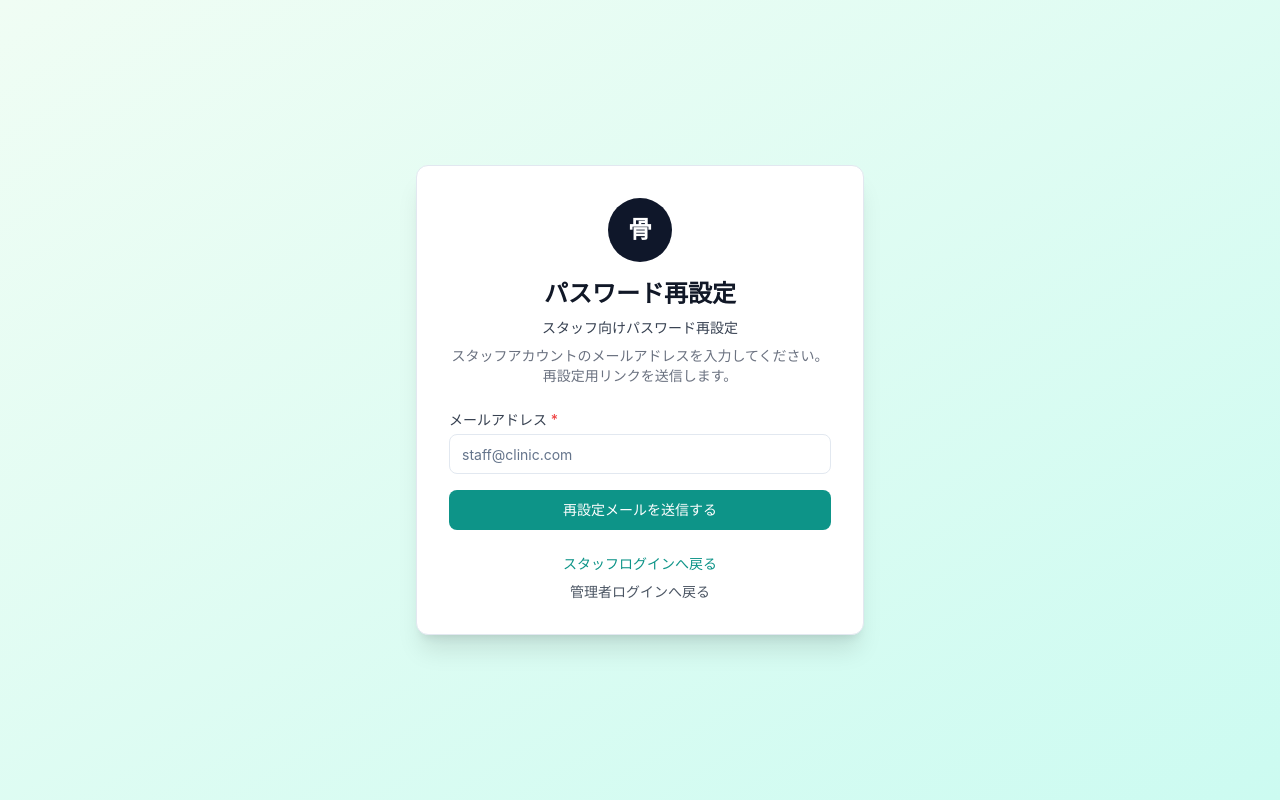
Scenario: /forgot-password page › 不正なメールアドレスではクライアント側バリデーションエラーを表示する
In the field labelled "メールアドレス *": (640, 454) [449,434,831,474], type "invalid-email"
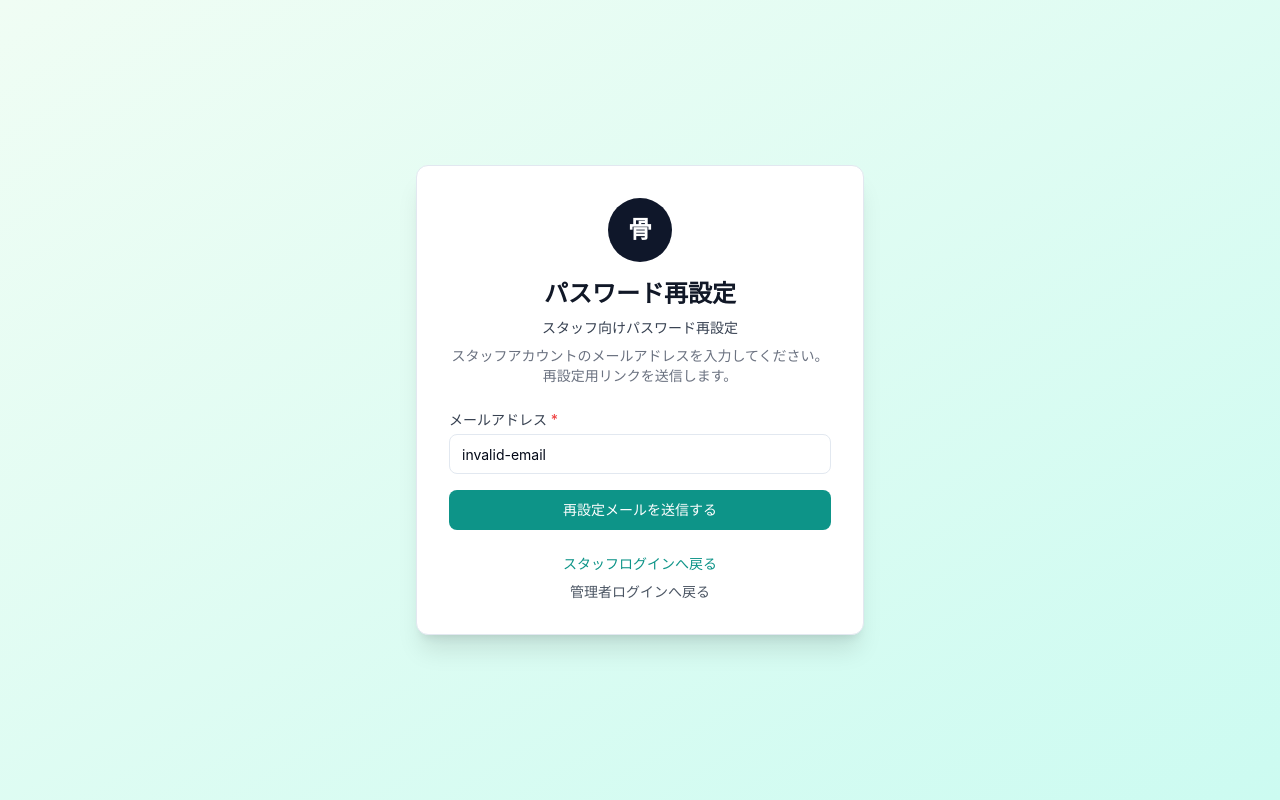
Submit the form "再設定メールを送信する", box [449,410,831,530]
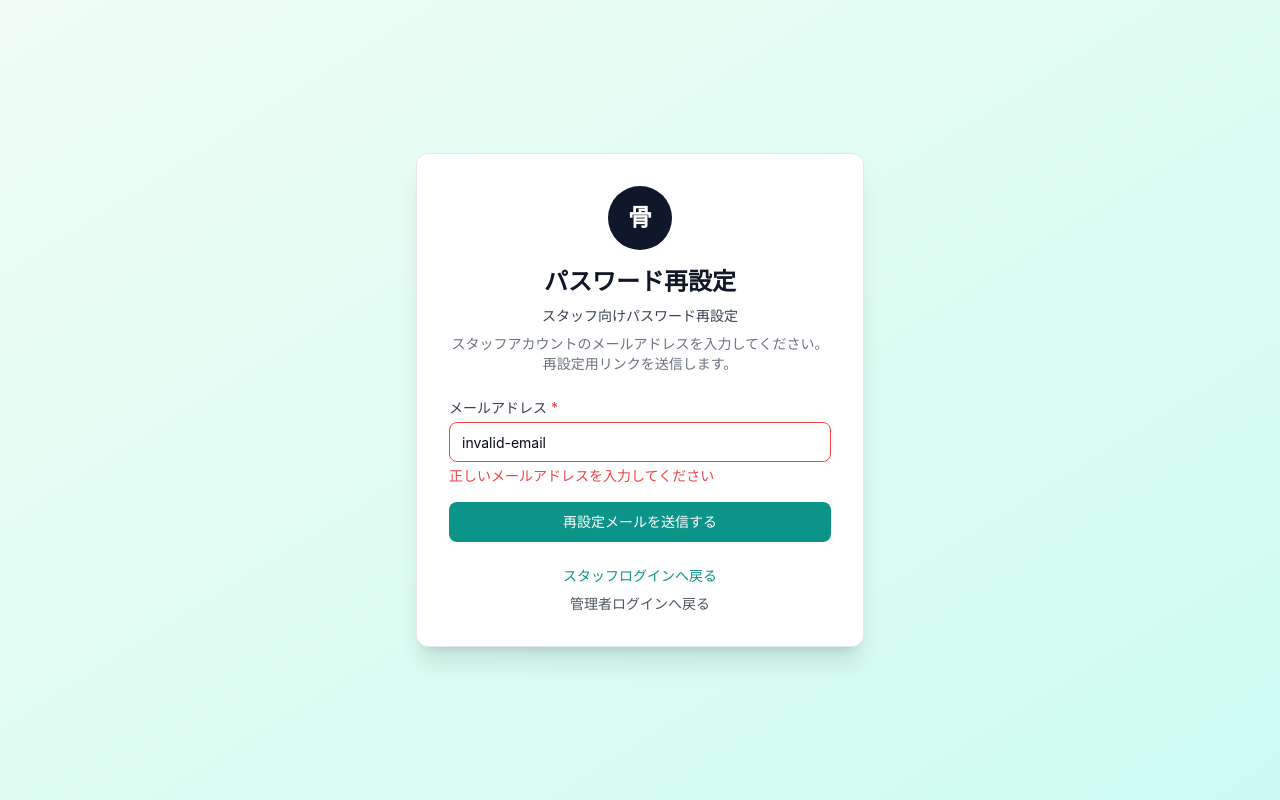
Result: the text "正しいメールアドレスを入力してください" is shown at [449,467,714,484]
